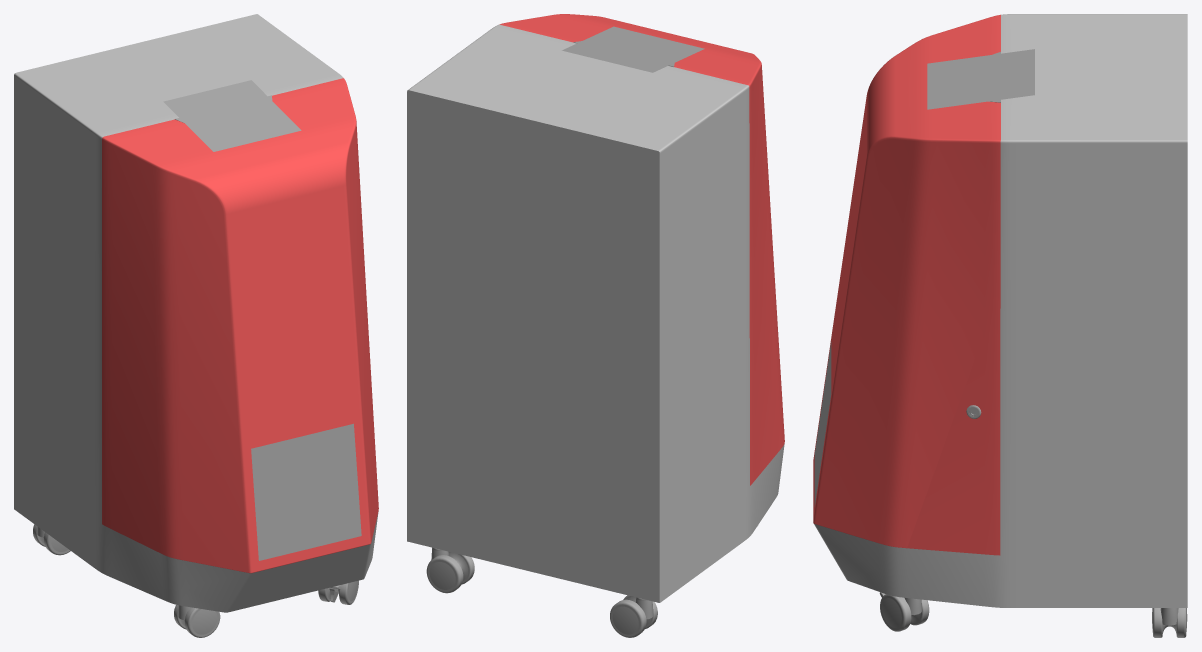
The model's file is EXHAUST.FBX.
3 views of the same model, side by side, from view 1: azimuth 30°, elevation 25°; view 2: azimuth 150°, elevation 25°; view 3: azimuth 270°, elevation 25° (orthographic). The views are drawn at different scales.
Visible parts, largest first — view 1: EXHAUST, LOGO, COMMANDE, ROUE; view 2: EXHAUST, COMMANDE, ROUE; view 3: EXHAUST, COMMANDE, ROUE, LOGO.
Boxes of the visible parts, x1,y1,x2,y2 form: EXHAUST: (14,14,378,612); LOGO: (251,423,361,560); COMMANDE: (163,80,301,151); ROUE: (33,524,358,637); EXHAUST: (407,14,784,602); COMMANDE: (562,26,704,72); ROUE: (426,547,657,637); EXHAUST: (813,14,1187,607); COMMANDE: (927,49,1034,109); ROUE: (879,592,1187,637); LOGO: (814,342,831,506).
Size of the model in its own units: 55.99 by 106 by 69.47.
